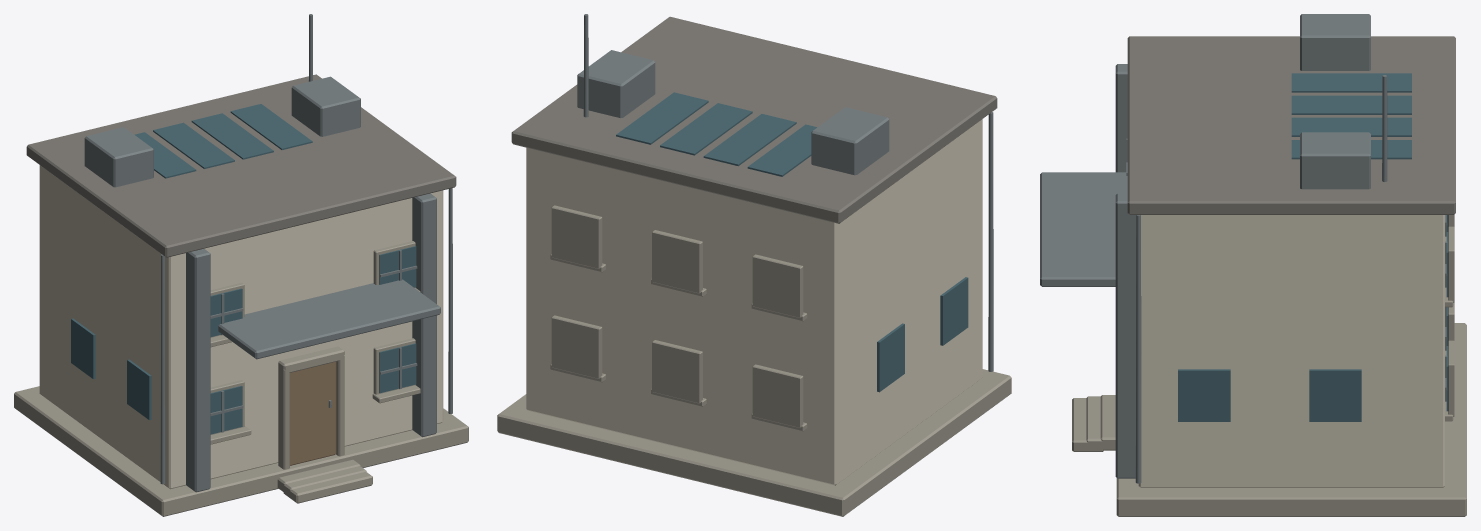
The model's file is bld_academie_a10.glb.
3 views of the same model, side by side, from view 1: azimuth 30°, elevation 25°; view 2: azimuth 150°, elevation 25°; view 3: azimuth 270°, elevation 25° (orthographic). The views are drawn at different scales.
Parts seen in each view (by area): view 1: bld_academie_a10; view 2: bld_academie_a10; view 3: bld_academie_a10.
Part boxes in pixels (box(x1,y1,x2,y2)): bld_academie_a10: box(14, 14, 468, 516); bld_academie_a10: box(497, 14, 1011, 516); bld_academie_a10: box(1040, 14, 1466, 516).
Bounding box in the file's own units: 3.8 × 4.21 × 3.9.
